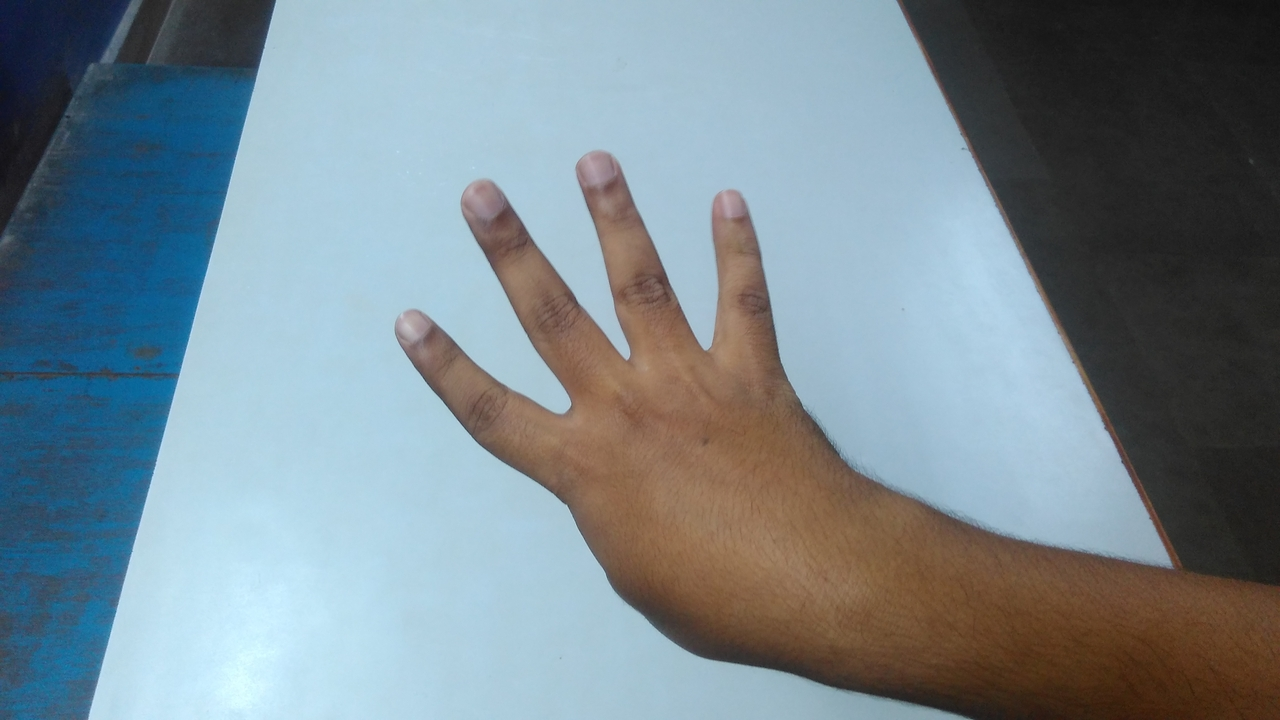fingertip: (380, 298, 448, 356), (450, 170, 516, 228), (566, 148, 634, 202), (706, 178, 762, 230)
